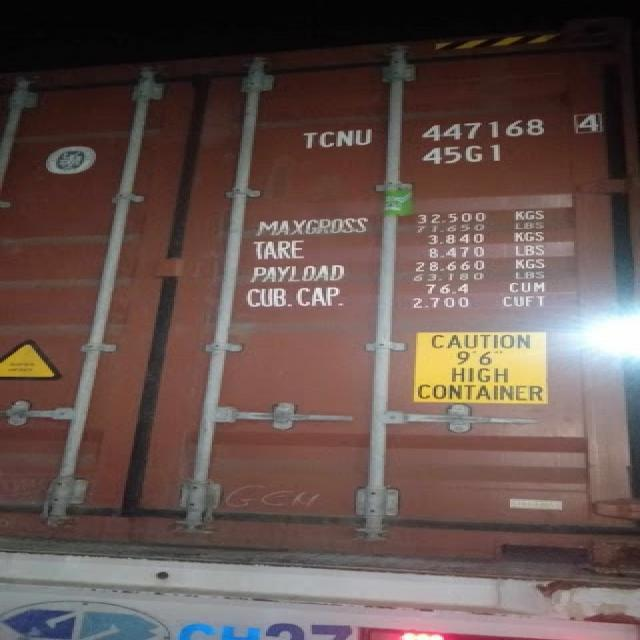ISO: (418, 145, 504, 166)
container_number: (301, 108, 602, 152)
